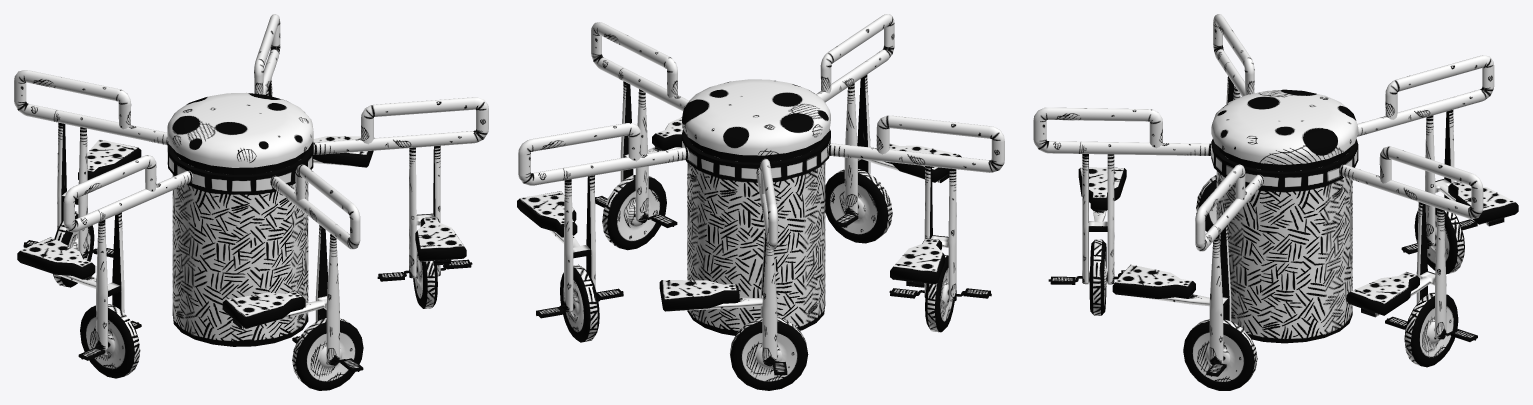
Rendered from wheel.glb.
The picture shows the model from 3 angles, left to right: view 1: azimuth 30°, elevation 25°; view 2: azimuth 150°, elevation 25°; view 3: azimuth 270°, elevation 25°; orthographic projection.
Visible parts, largest first — view 1: Cycles, CenterColumn; view 2: Cycles, CenterColumn; view 3: Cycles, CenterColumn.
Part boxes in pixels (x1,y1,x2,y2): Cycles: (14,14,488,390); CenterColumn: (167,92,313,346); Cycles: (517,14,1004,390); CenterColumn: (682,79,830,335); Cycles: (1033,14,1518,390); CenterColumn: (1211,89,1358,343).
Size of the model in its own units: 153 by 71.9 by 155.
1 material, 1 textured.
